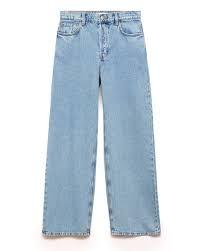jeans: (40, 7, 165, 240)
